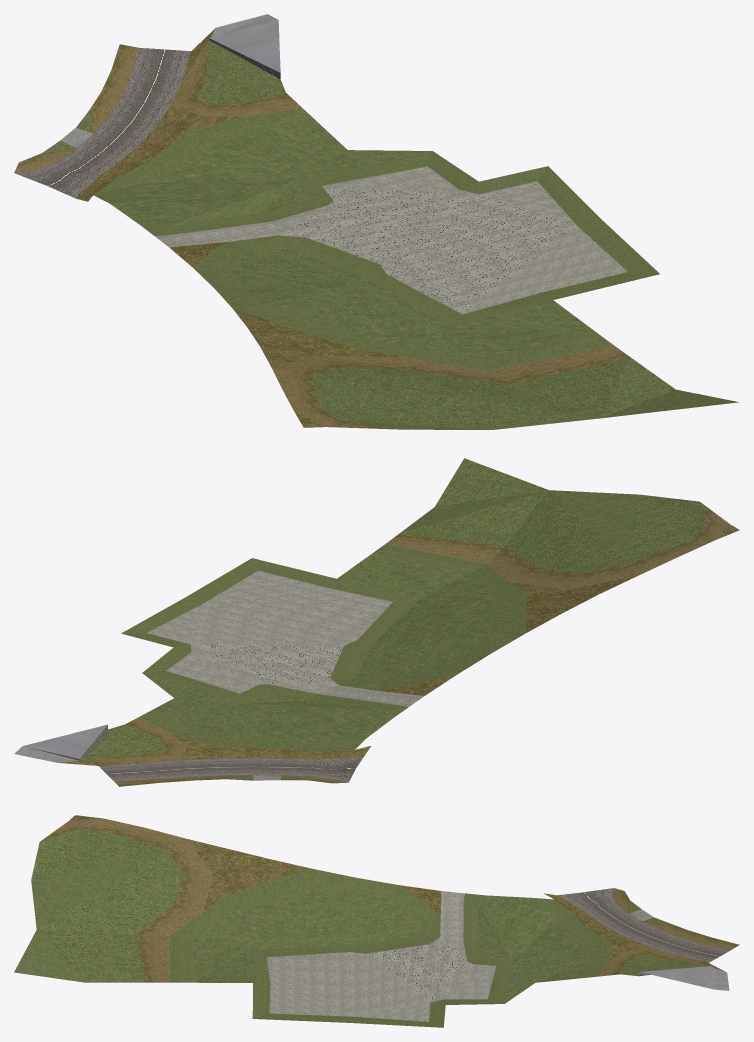
The model's file is lod_s_bit_08.obj.
3 views of the same model, one above another, from view 1: azimuth 30°, elevation 25°; view 2: azimuth 150°, elevation 25°; view 3: azimuth 270°, elevation 25° (orthographic). The views are drawn at different scales.
Visible parts, largest first — view 1: lod_s_bit_08; view 2: lod_s_bit_08; view 3: lod_s_bit_08.
Boxes of the visible parts, x1=… form: lod_s_bit_08: x1=14, y1=14, x2=738, y2=429; lod_s_bit_08: x1=14, y1=458, x2=739, y2=786; lod_s_bit_08: x1=14, y1=815, x2=739, y2=1027.
Size of the model in its own units: 136 by 15.5 by 242.
Materials: 10 (10 with a texture image).
